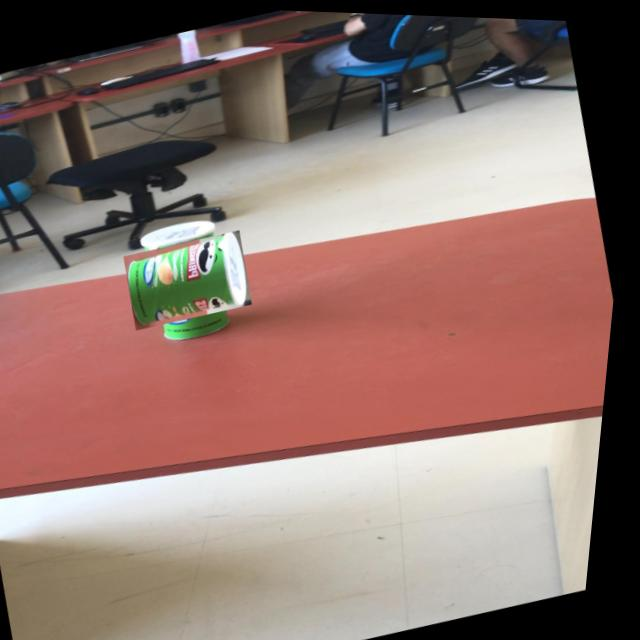a pringles: (129, 216, 257, 339)
